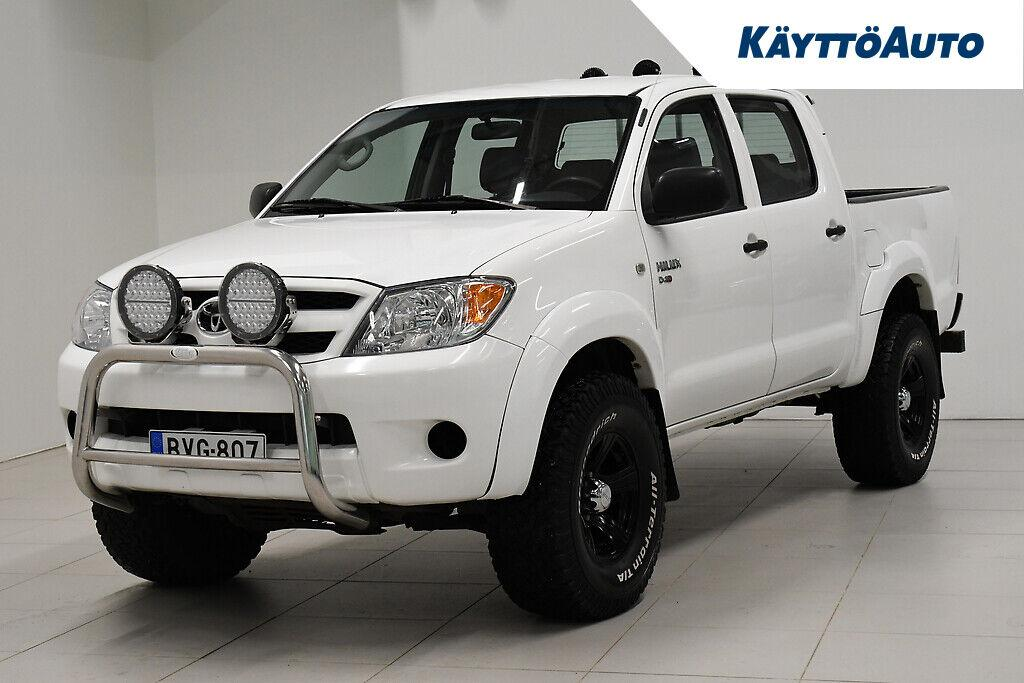license-plates: (148, 432, 266, 458)
